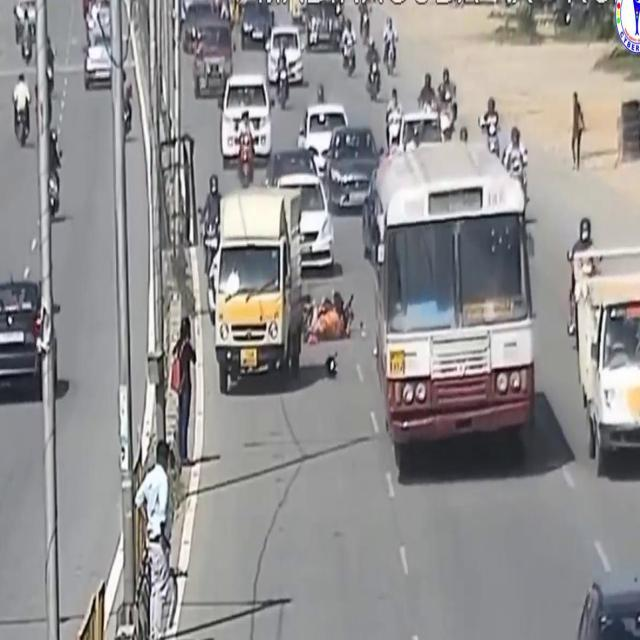accident: (302, 265, 362, 387)
non_accident: (167, 0, 385, 221), (49, 0, 114, 115)
